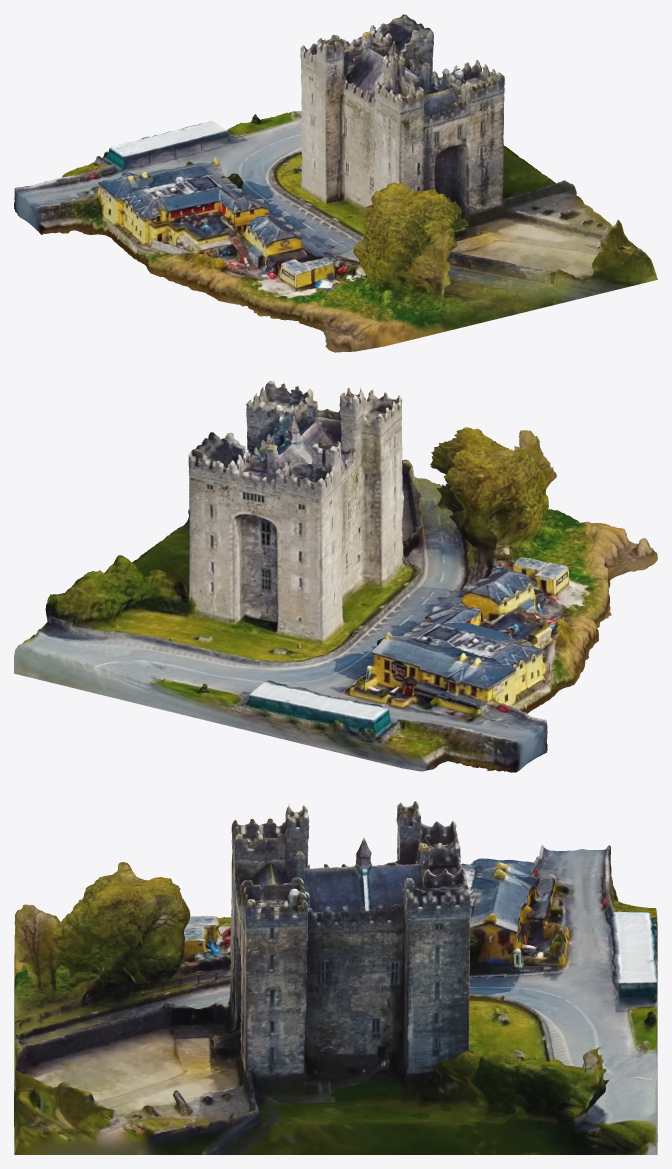
File: sf-bunratty-castle-f37d0f.glb
3 views of the same model, one above another, from view 1: azimuth 30°, elevation 25°; view 2: azimuth 150°, elevation 25°; view 3: azimuth 270°, elevation 25° (orthographic). The views are drawn at different scales.
Visible parts, largest first — view 1: Bunratty-Castle_Bunratty-Castle_u1_v1_0; view 2: Bunratty-Castle_Bunratty-Castle_u1_v1_0; view 3: Bunratty-Castle_Bunratty-Castle_u1_v1_0.
Part boxes in pixels (left/top/right/bottom): Bunratty-Castle_Bunratty-Castle_u1_v1_0: left=14, top=14, right=657, bottom=352; Bunratty-Castle_Bunratty-Castle_u1_v1_0: left=14, top=381, right=657, bottom=772; Bunratty-Castle_Bunratty-Castle_u1_v1_0: left=14, top=801, right=657, bottom=1154.
Size of the model in its own units: 14.28 by 6.09 by 14.31.
Materials: 1 (1 with a texture image).
